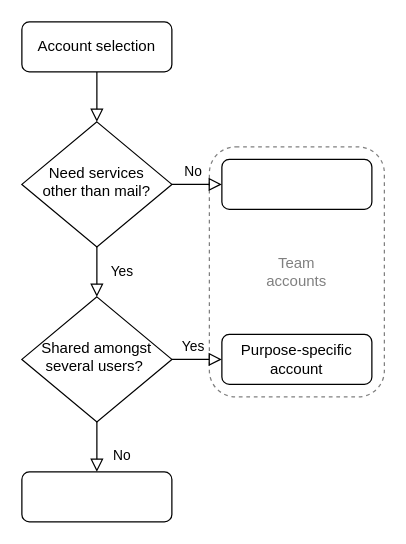
The diagram is 406 pixels wide and 544 high, and some of its shapes have lost their labels. The box of each missing label's shape, as (x1, y1, x2, y2) in pixels:
Collaborative Inbox: (221, 158, 372, 209)
Personal account: (21, 471, 172, 522)
